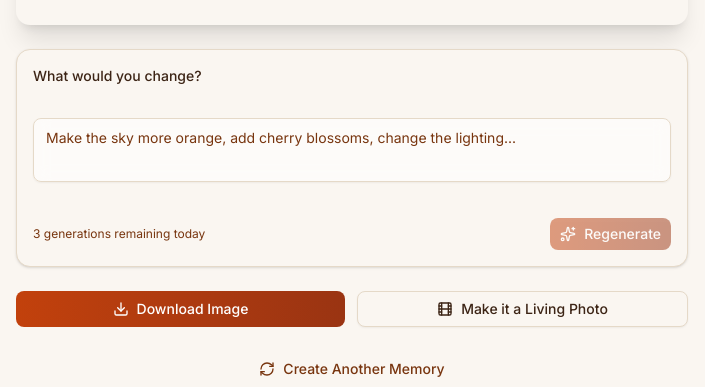
Test: ResultView › Regenerate enables after typing feedback
This screenshot has width=705, height=387.
(page scrolled)
In the text box with placeholder "Make the sky more orange": coordinates (352, 150) 33,118 -> 671,182, type "add cherry blossoms"
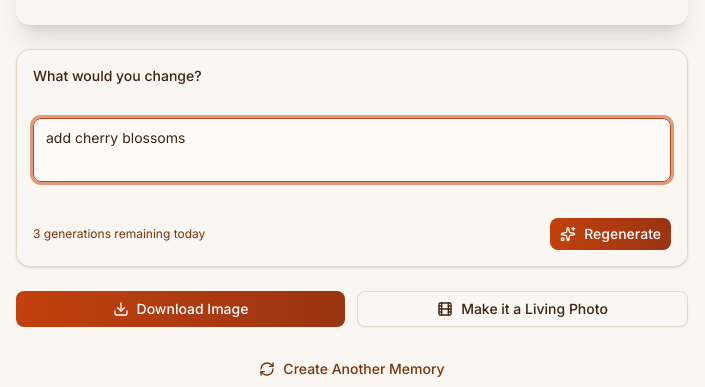
Result: the button "Regenerate" is enabled at 550,218 -> 671,250
